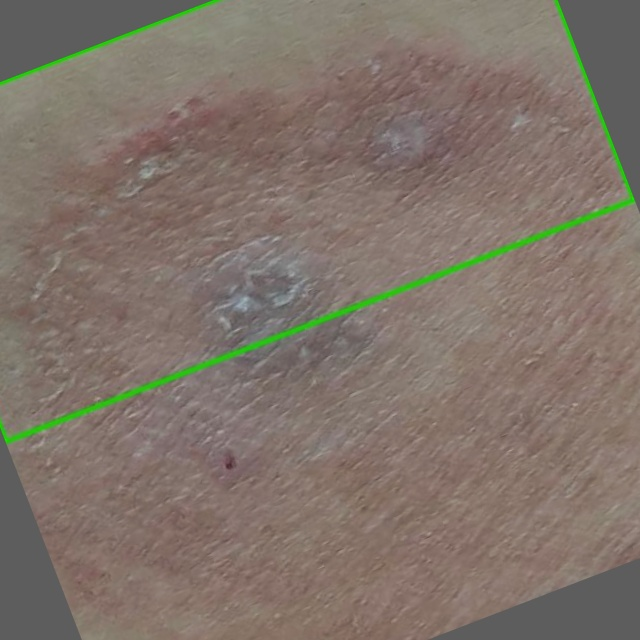Tinea Corporis: (0, 0, 633, 441)
